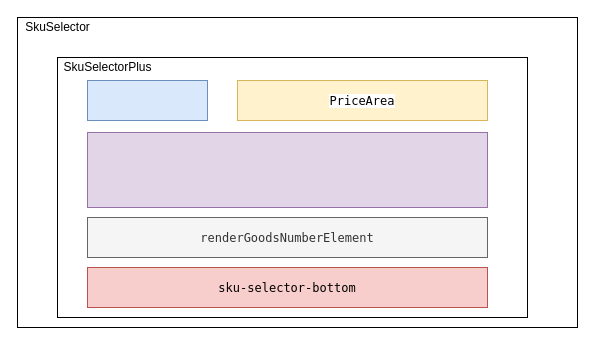
This 595x345 diagram has some shape labels left out. The shapes that lost their labels are listed below. From the top down, each one's centre as x and y in pixels, then its label:
point 147,100: SkuImage
point 287,170: renderSkusElement
